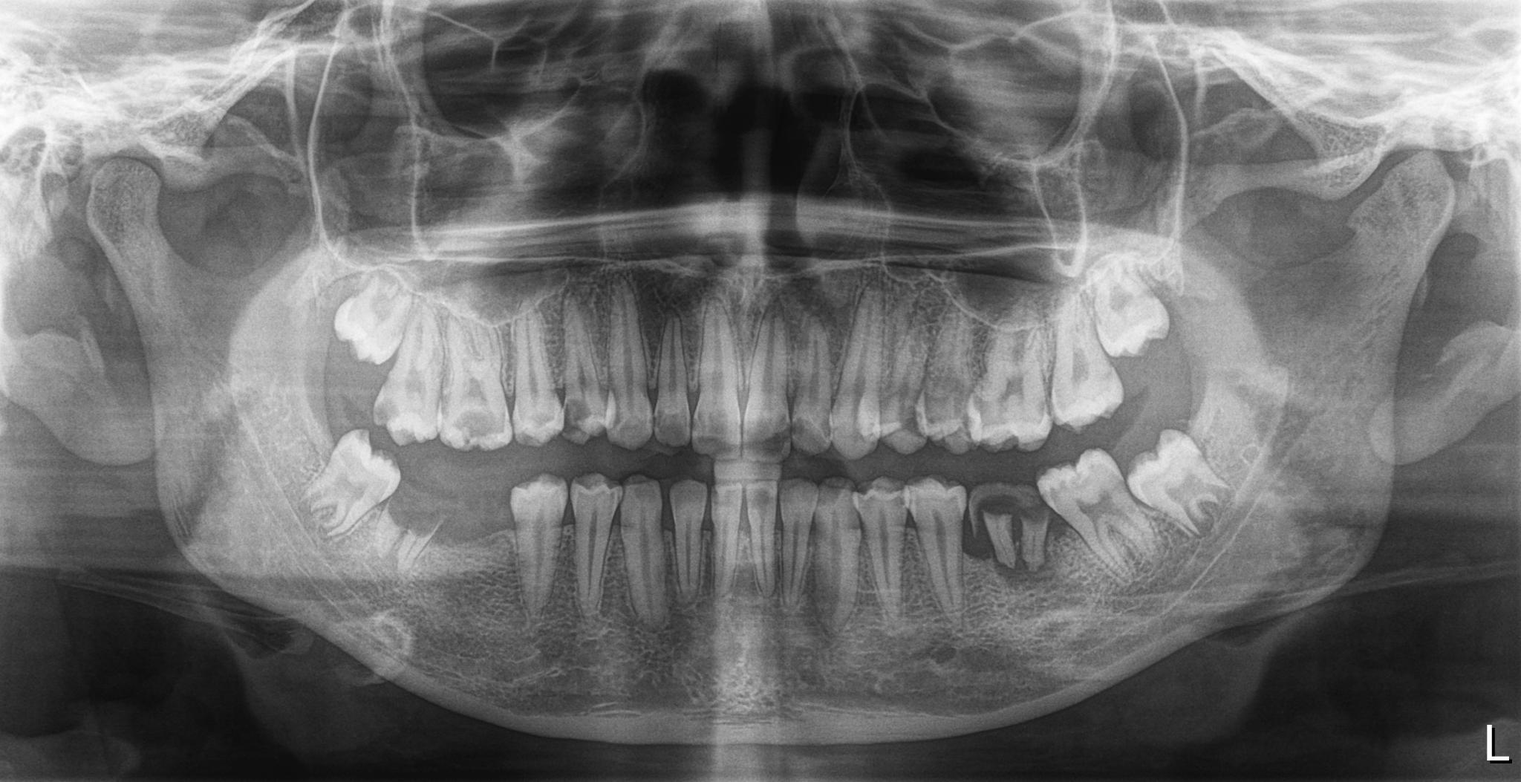Dental Caries: (453, 397, 497, 437), (561, 399, 602, 434)
Impacted Third Molar: (1133, 434, 1244, 538), (288, 434, 393, 534), (314, 264, 411, 363), (1088, 265, 1180, 350)
Missing Tooth: (449, 486, 516, 605)
Retained Root: (977, 464, 1055, 577), (379, 503, 443, 581)
